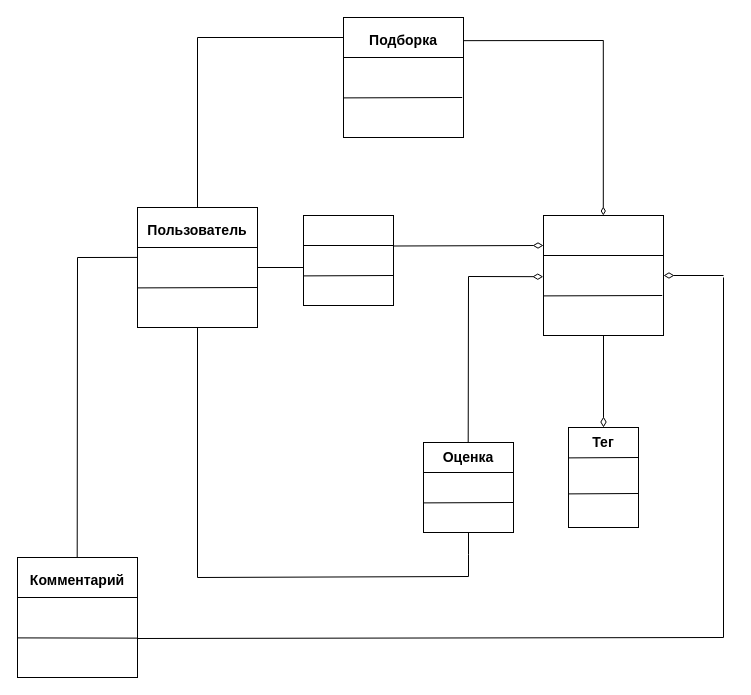
Some shapes in this 751 by 695 pixel diagram are drawn without their labels. The shapes that lost their labels are listed below. From the top down, each one's centre as x and y in pixels, then its label:
the point at 348,260: Рецензия
the point at 603,275: Контент
